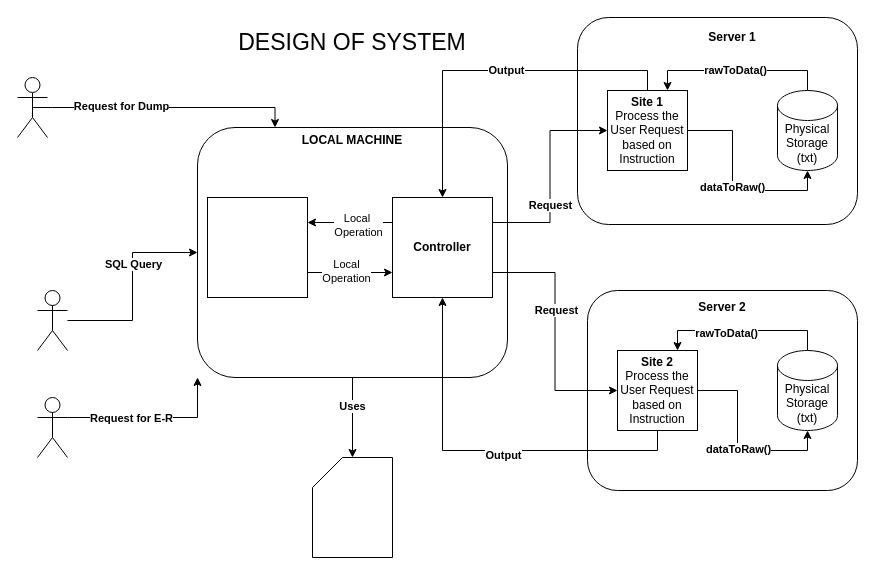
Image size: 875x575. Some labels were removed from this diagram. The shapes that lost their labels are listed below. From the top down, each one's centre as x and y in pixels, then its label:
At [257,247]: "Local Database (Local Site)".
At [352,507]: "GDD".
